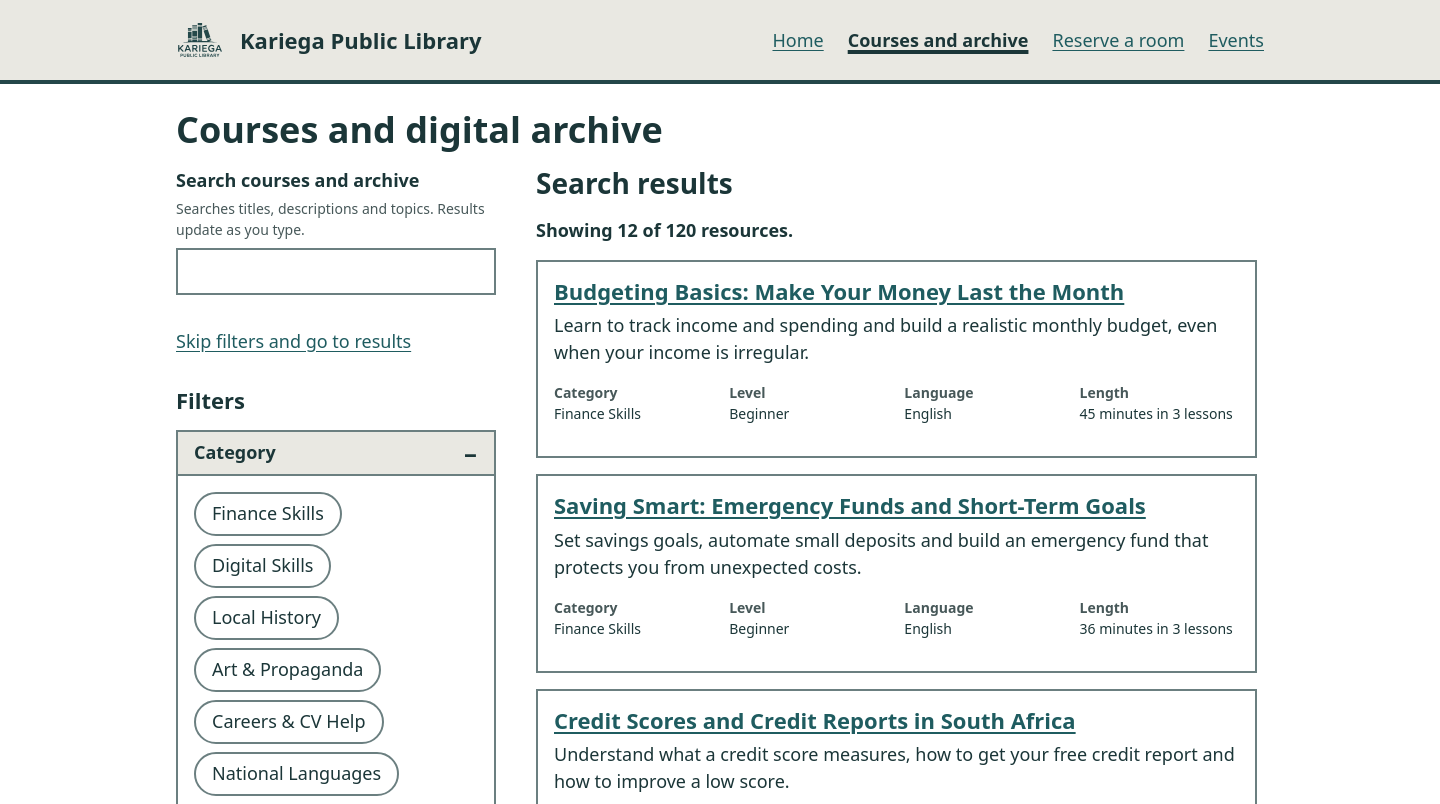
Test: filterable resource listing › announces and explains an empty result set
Type "zzzzqqqq" into the search field at (336, 272), box [176, 248, 496, 295]
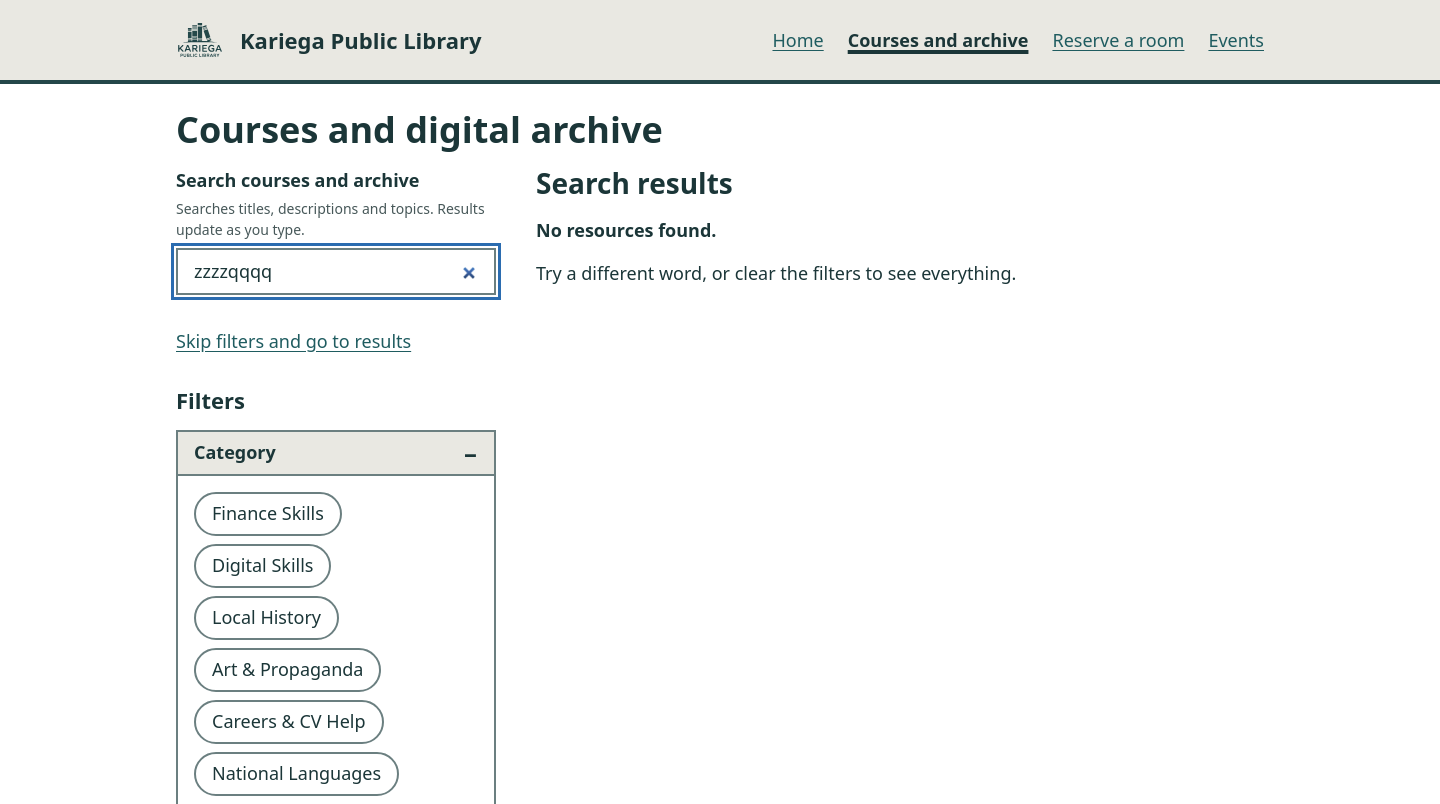
Result: the text "Try a different word" is shown at [536, 261, 1016, 285]
